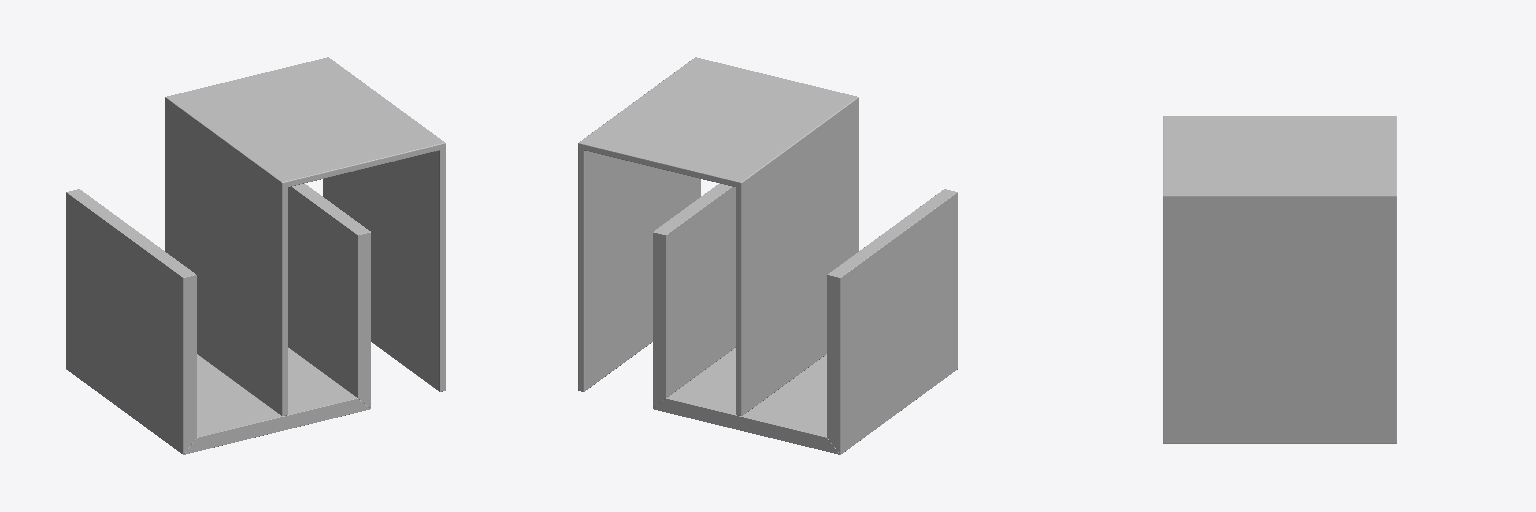
The model's file is Table 2.obj.
3 renders of one model, left to right at view 1: azimuth 30°, elevation 25°; view 2: azimuth 150°, elevation 25°; view 3: azimuth 270°, elevation 25°, orthographic.
Visible parts, largest first — view 1: shelve_02; view 2: shelve_02; view 3: shelve_02.
Part boxes in pixels (bbox=[...]): shelve_02: bbox=[66, 57, 445, 454]; shelve_02: bbox=[578, 57, 957, 454]; shelve_02: bbox=[1163, 116, 1396, 443].
Bounding box in the file's own units: 465 × 420 × 360.